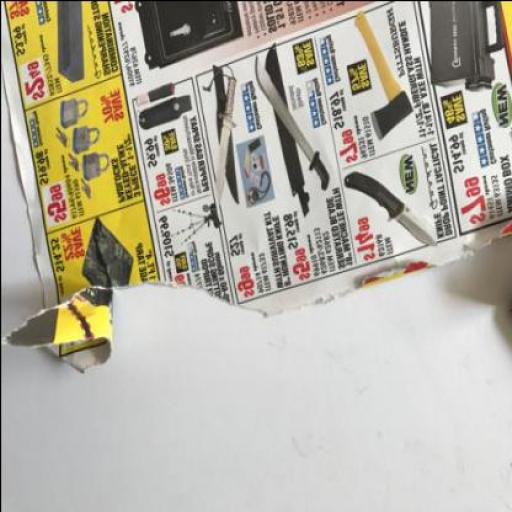paper: (0, 1, 511, 373)
